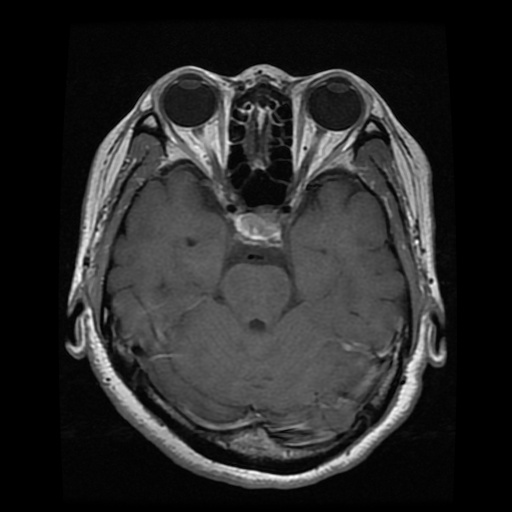pituitary: (230, 209, 283, 248)
